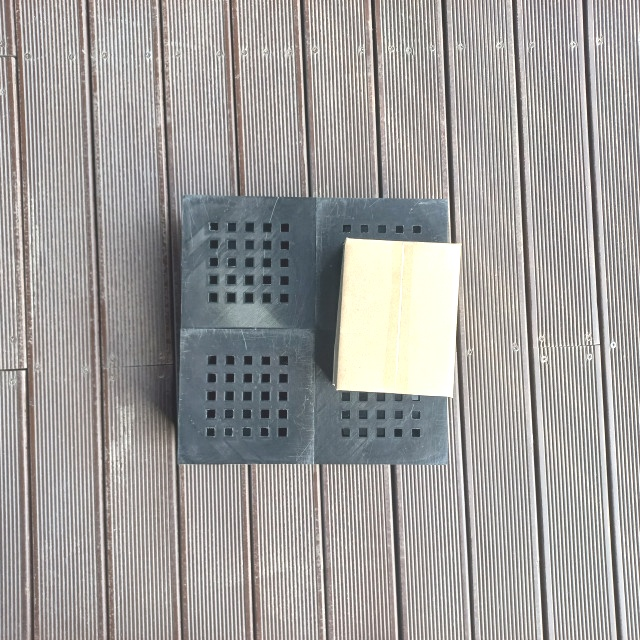box: (332, 235, 462, 399)
pallet: (174, 195, 464, 466)
